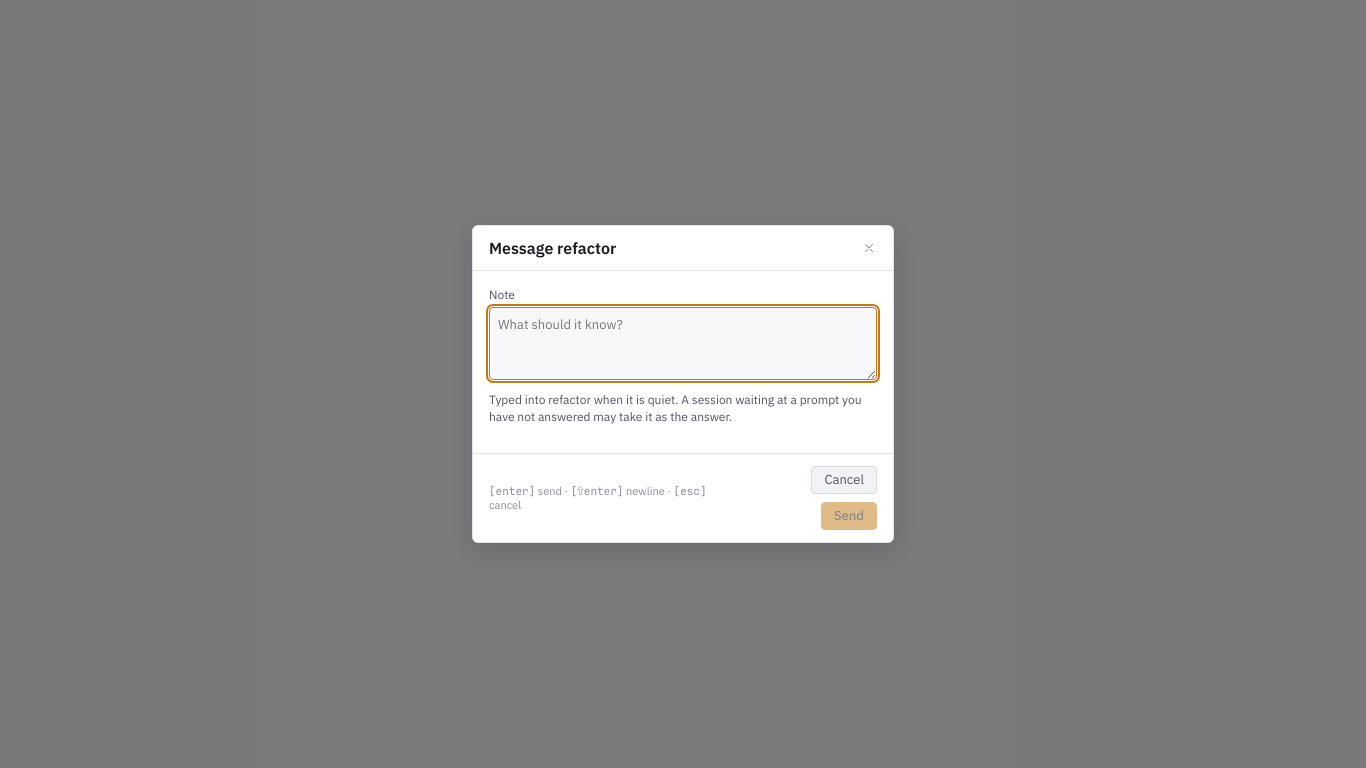
it: message sheet › never offers to queue for an ACP session
Type "hi" into the text box with id "message-session-text" at {"x": 683, "y": 344}, box top-left (489, 307), bottom-right (877, 380)
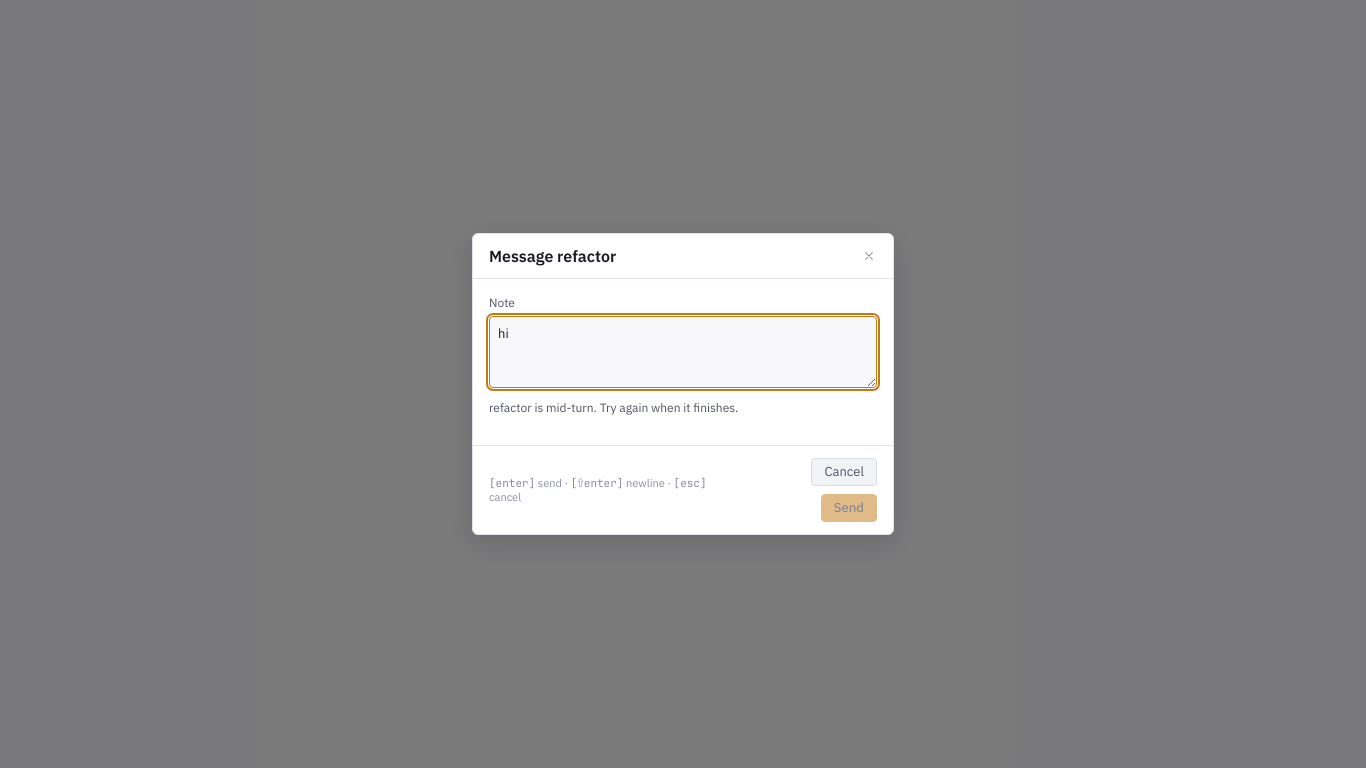
Check: the button with id "message-session-send" is disabled, box top-left (821, 494), bottom-right (877, 522)
Check: the message with id "message-session-busy" shows "mid-turn", box top-left (489, 400), bottom-right (738, 415)
